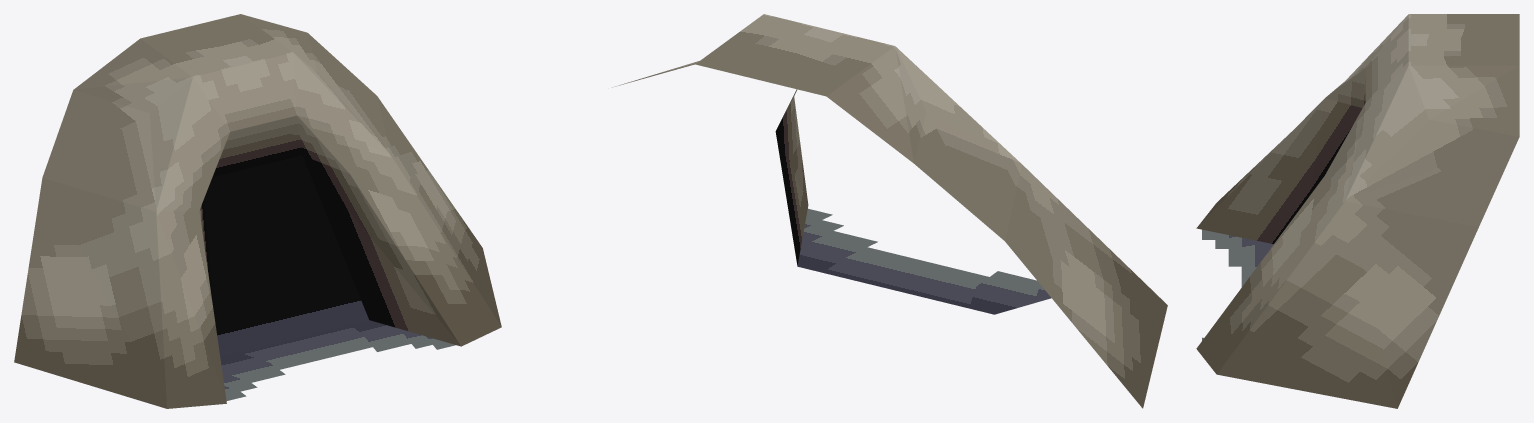
The picture shows the model from 3 angles, left to right: view 1: azimuth 30°, elevation 25°; view 2: azimuth 150°, elevation 25°; view 3: azimuth 270°, elevation 25°; orthographic projection. The views are drawn at different scales.
Bounding box in the file's own units: 3.5 × 1.69 × 1.99.
Materials: 1 (1 with a texture image).
